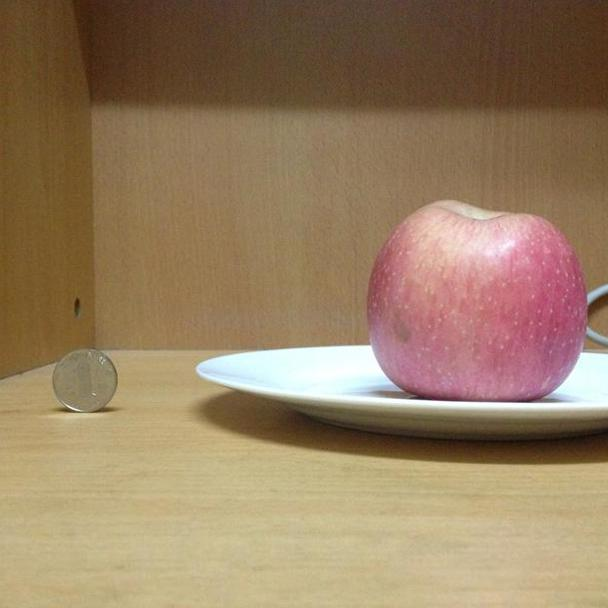apple: (364, 199, 589, 401)
